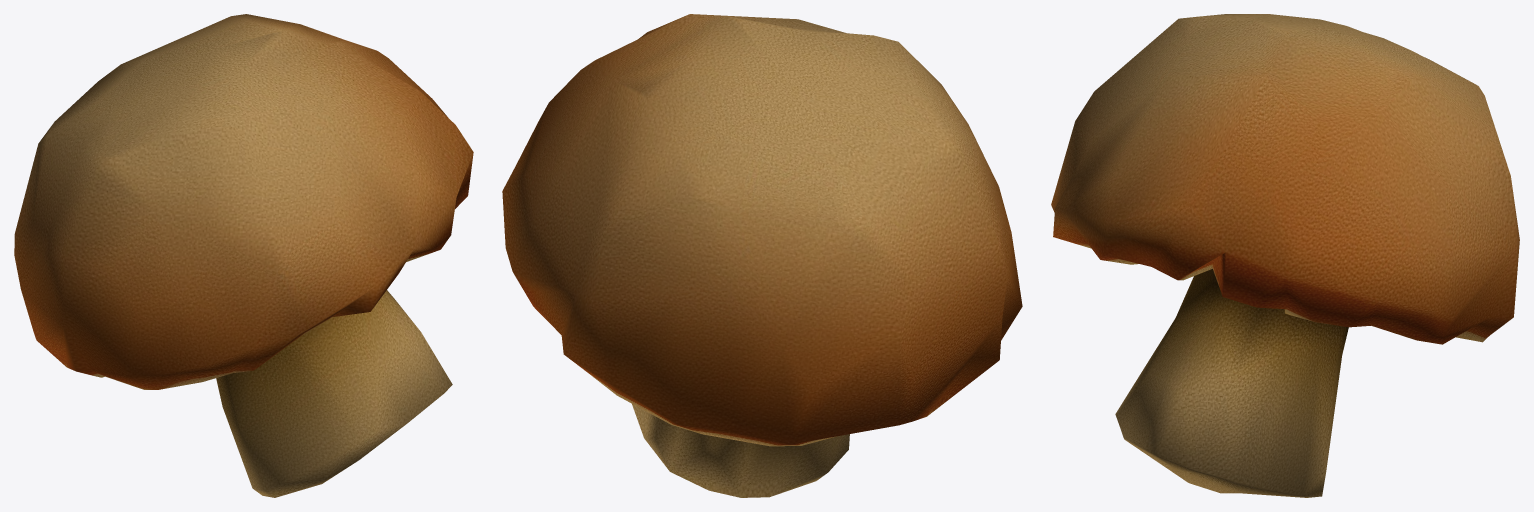
3 renders of one model, left to right at view 1: azimuth 30°, elevation 25°; view 2: azimuth 150°, elevation 25°; view 3: azimuth 270°, elevation 25°, orthographic. The views are drawn at different scales.
Parts seen in each view (by area): view 1: tripo_node_97212272-8ab9-4a23-a551-d790bbcd494d; view 2: tripo_node_97212272-8ab9-4a23-a551-d790bbcd494d; view 3: tripo_node_97212272-8ab9-4a23-a551-d790bbcd494d.
Boxes of the visible parts, bbox=[...] form: tripo_node_97212272-8ab9-4a23-a551-d790bbcd494d: bbox=[14, 14, 473, 497]; tripo_node_97212272-8ab9-4a23-a551-d790bbcd494d: bbox=[502, 14, 1022, 497]; tripo_node_97212272-8ab9-4a23-a551-d790bbcd494d: bbox=[1051, 14, 1519, 497].
Bounding box in the file's own units: 0.9863 × 0.998 × 0.9121.
Materials: 1 (1 with a texture image).
